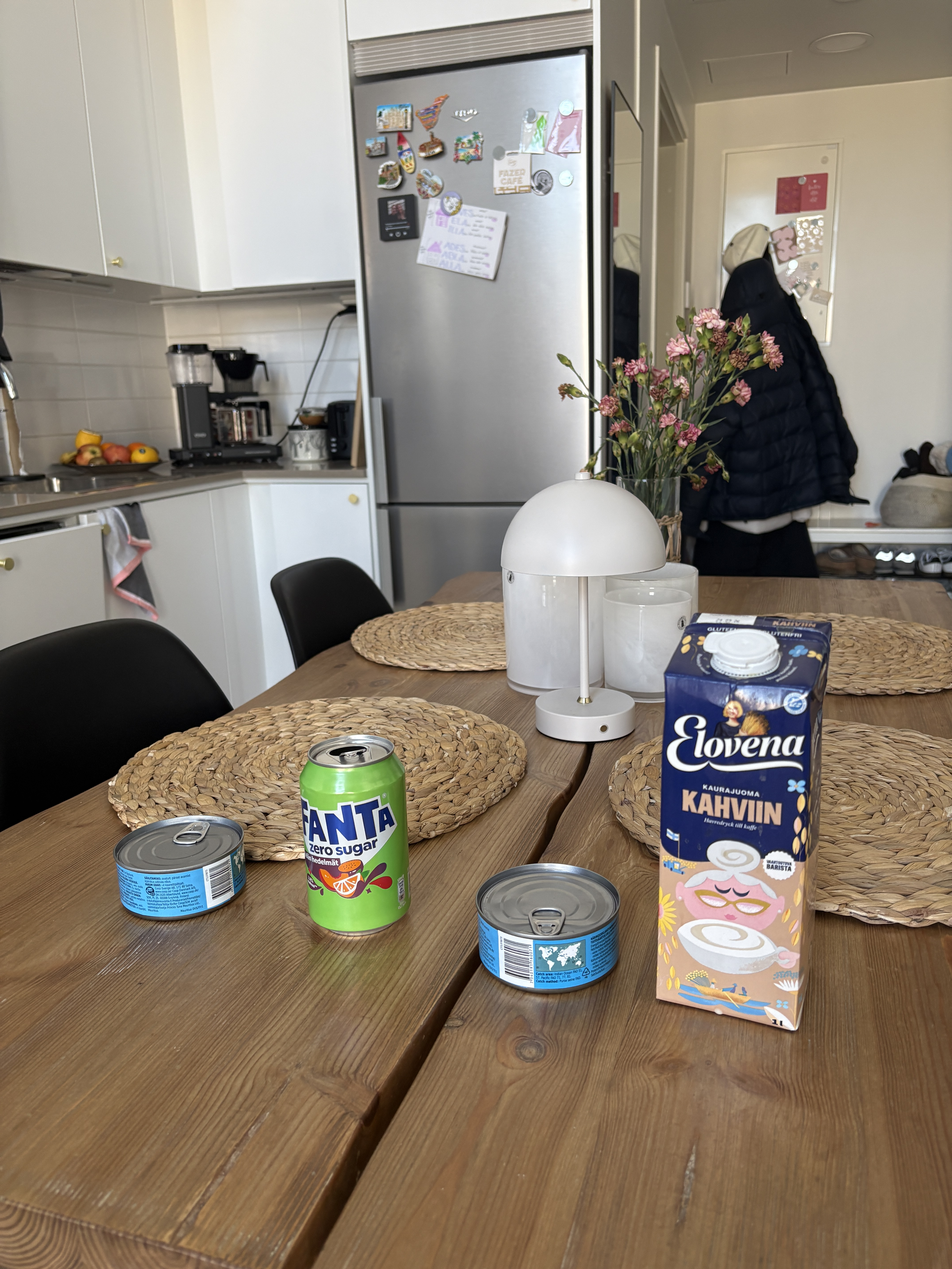Dryckeskartong: (664, 610, 840, 1042)
Konservburk: (474, 848, 637, 1012), (109, 814, 252, 935)
Pantburk: (293, 726, 431, 968)
